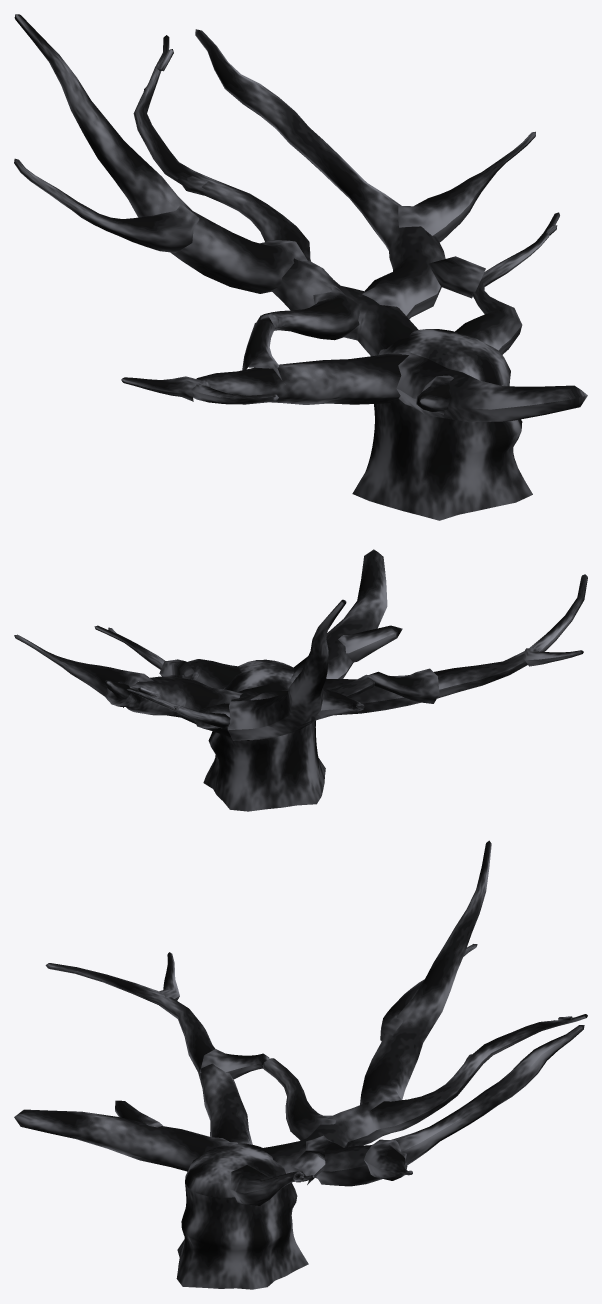
The model's file is TarTree02.glb.
3 views of the same model, one above another, from view 1: azimuth 30°, elevation 25°; view 2: azimuth 150°, elevation 25°; view 3: azimuth 270°, elevation 25° (orthographic). The views are drawn at different scales.
Parts seen in each view (by area): view 1: TarTree02_limbs; view 2: TarTree02_limbs; view 3: TarTree02_limbs.
Boxes of the visible parts, x1=… form: TarTree02_limbs: x1=14, y1=14, x2=587, y2=520; TarTree02_limbs: x1=14, y1=549, x2=587, y2=811; TarTree02_limbs: x1=14, y1=840, x2=587, y2=1289.
Bounding box in the file's own units: 7.7 × 5.36 × 8.6.
Materials: 1 (1 with a texture image).
